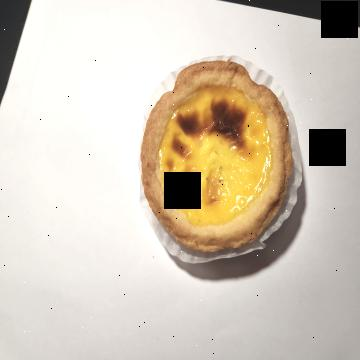EggTart: (141, 60, 293, 251)
